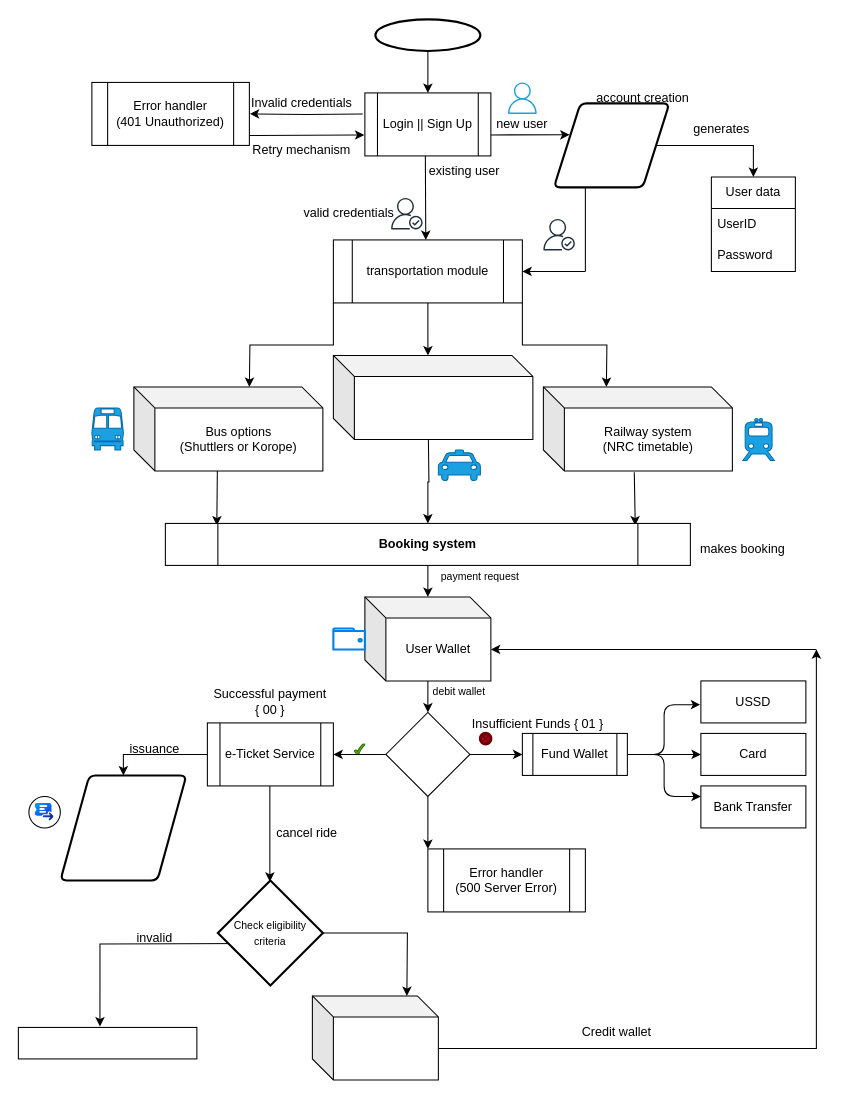
The diagram is 843 pixels wide and 1098 high, and some of its shapes have lost their labels. Each missing label, with the centre of its shape:
"FirstName LastName Email Password" goes at point 611,145.
"is payment successful?" goes at point 427,753.
"Refund module" goes at point 374,1037.
"Start" goes at point 427,34.
"Taxi options (Uber's Public API)" goes at point 432,396.
"Ticket Deletion" goes at point 107,1042.
"Ticket ID QR Code Passenger ID Vehicle ID TripTime Fare" goes at point 123,827.
